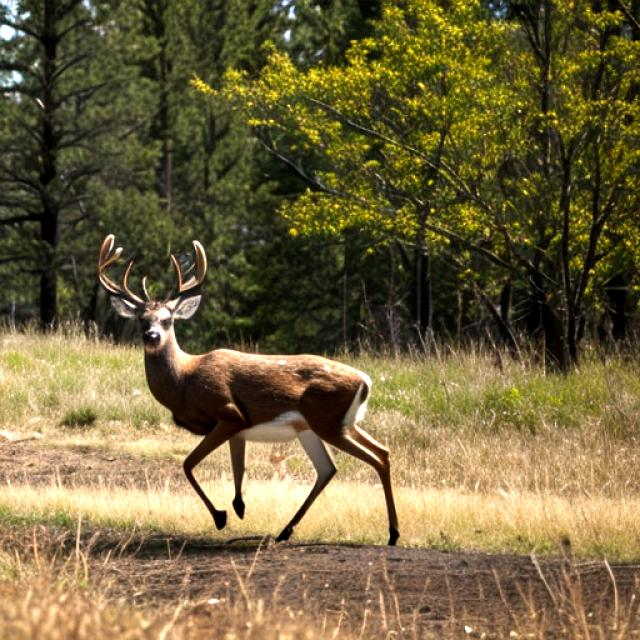deer: (77, 221, 345, 438)
